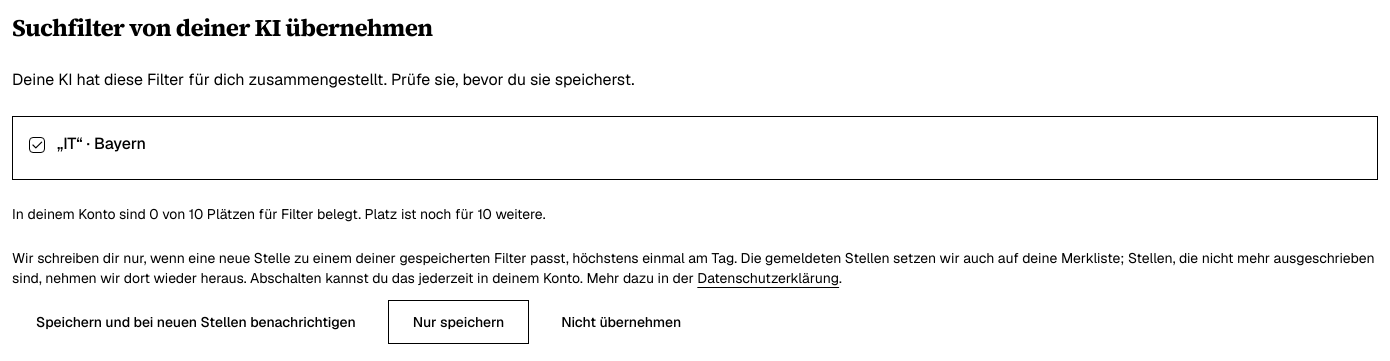
Test case: SuchprofilImport › verwirft auf Wunsch und loescht das gemerkte Fragment
Click the button "Nicht übernehmen". click: x=621, y=322
box: [537,300,705,344]
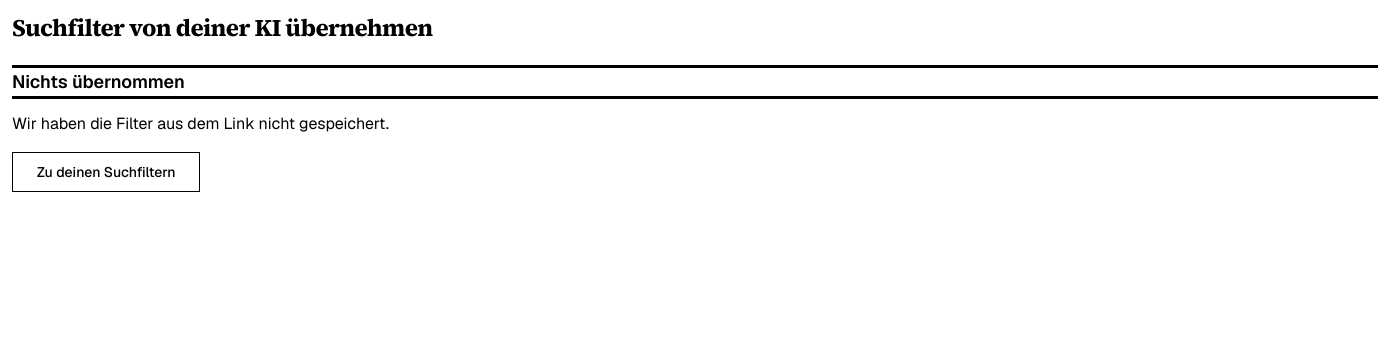
Expected: the heading "Nichts übernommen" is shown, [12,68,1378,96]
